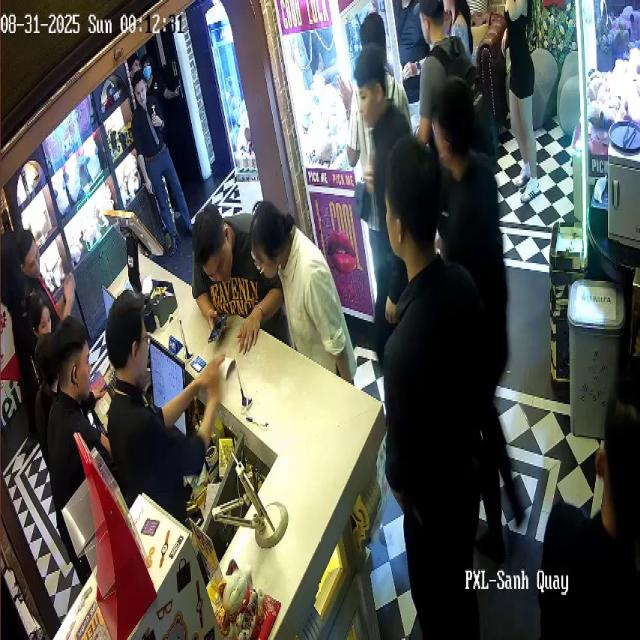khach: (249, 194, 358, 413), (349, 14, 419, 313), (409, 8, 494, 243), (184, 192, 290, 372), (501, 0, 547, 198), (446, 0, 481, 69)
nhan vien: (390, 147, 489, 603), (100, 293, 244, 559), (432, 79, 526, 460), (358, 49, 426, 364), (118, 66, 200, 220), (58, 315, 108, 561), (21, 231, 76, 396), (32, 335, 66, 507), (28, 293, 62, 367)
